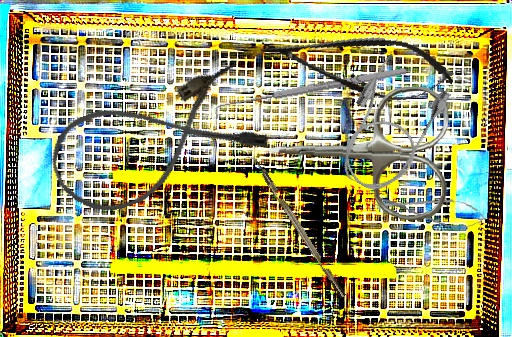Cannula: (39, 57, 273, 227), (323, 49, 455, 203)
Chopper: (243, 150, 346, 304)
Hook Surgical: (211, 64, 410, 120)
Iris Scissors: (264, 81, 451, 222)
Micro Scissor: (256, 17, 458, 112), (372, 187, 489, 233)
